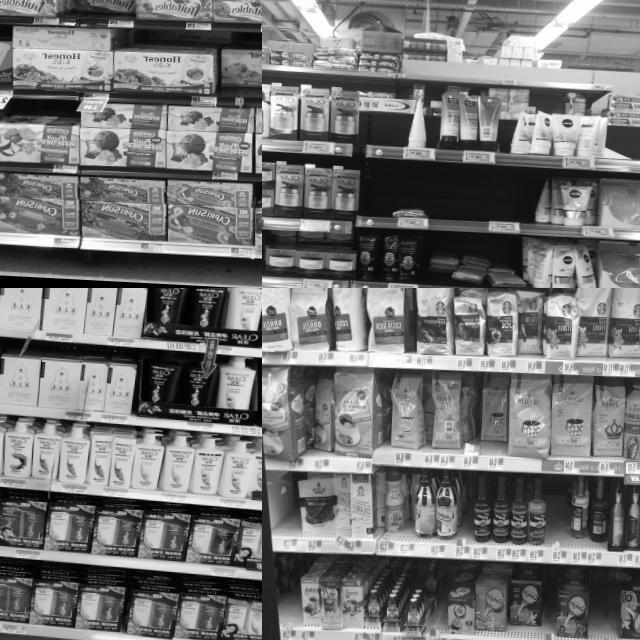empty: (430, 164, 533, 234), (359, 167, 394, 227), (366, 112, 407, 159), (604, 126, 640, 176), (592, 583, 618, 640), (545, 508, 570, 564), (277, 591, 301, 640), (276, 514, 300, 553), (429, 589, 447, 640), (455, 509, 472, 558), (541, 591, 556, 640)
